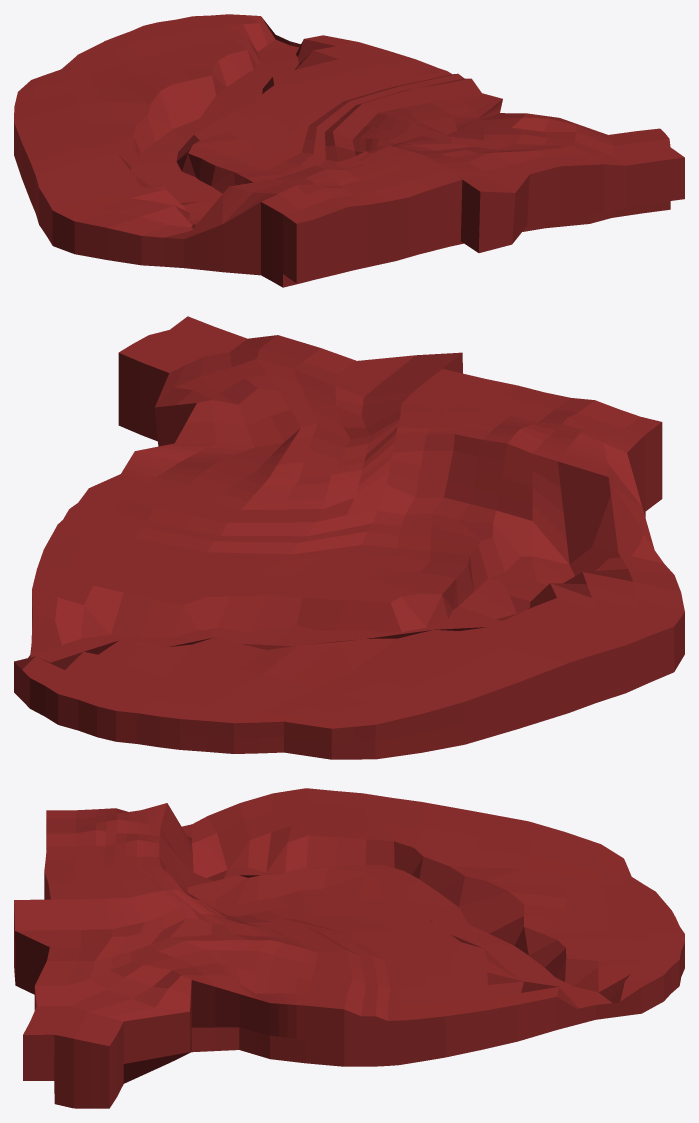
The model's file is Spawnplatte.fbx.
3 renders of one model, top to bottom at view 1: azimuth 30°, elevation 25°; view 2: azimuth 150°, elevation 25°; view 3: azimuth 270°, elevation 25°, orthographic. The views are drawn at different scales.
Parts seen in each view (by area): view 1: Hauptraum; view 2: Hauptraum; view 3: Hauptraum.
Part boxes in pixels (box(x1,y1,x2,y2)): Hauptraum: box(14, 14, 684, 287); Hauptraum: box(14, 316, 684, 759); Hauptraum: box(14, 788, 684, 1108).
Bounding box in the file's own units: 9172 × 1490 × 9268.
